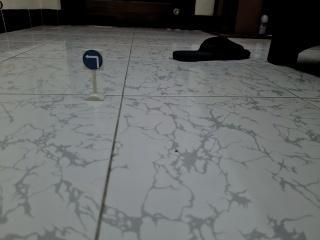left: (76, 43, 109, 76)
